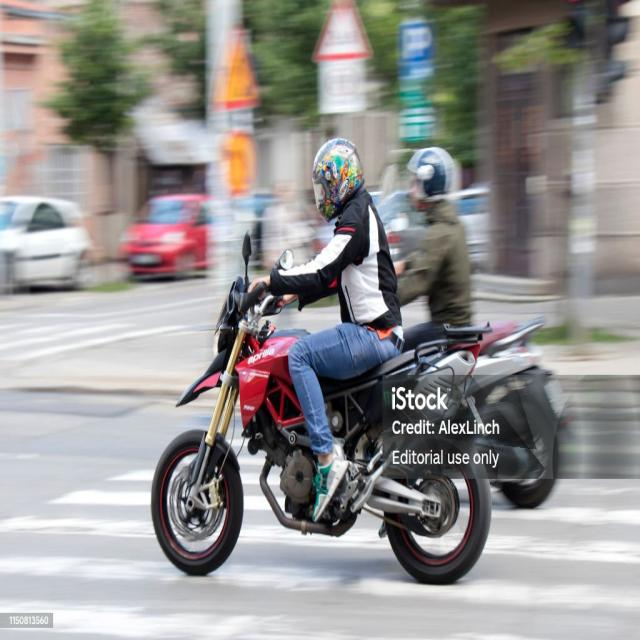Helmet: (308, 124, 364, 216)
Motorbike: (149, 242, 511, 609)
